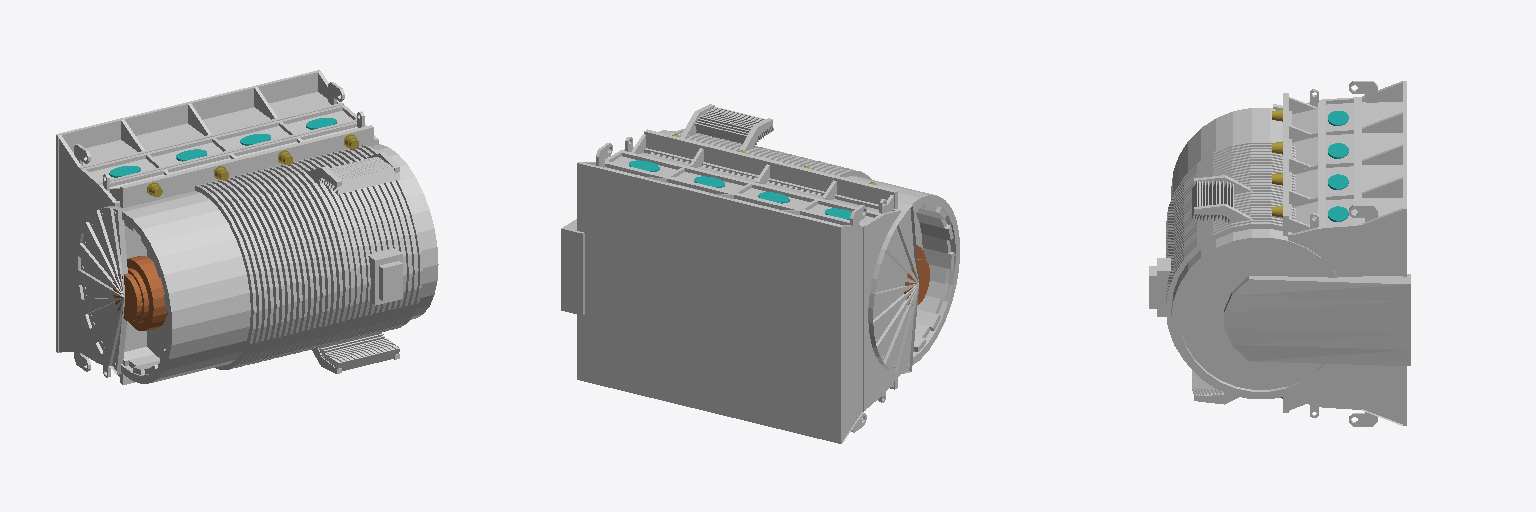
File: Generator.obj
The picture shows the model from 3 angles: view 1: azimuth 30°, elevation 25°; view 2: azimuth 150°, elevation 25°; view 3: azimuth 270°, elevation 25°; orthographic projection.
Visible parts, largest first — view 1: Electro; view 2: Electro; view 3: Electro.
Part boxes in pixels (x1,y1,x2,y2): Electro: (56,70,438,384); Electro: (561,104,959,443); Electro: (1149,81,1410,426).
Size of the model in its own units: 443 by 330 by 354.